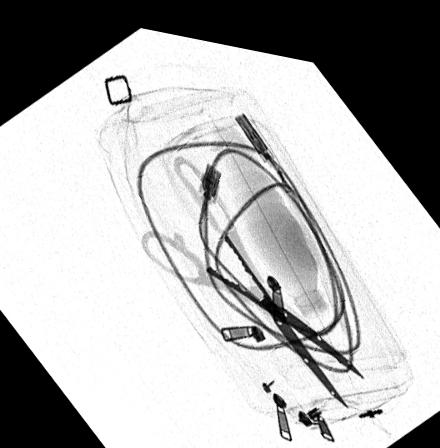Scissors: (137, 144, 368, 398)
